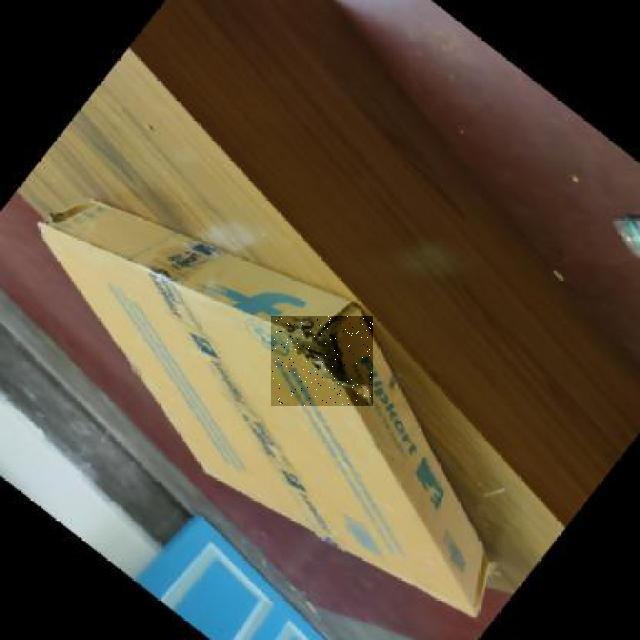squeeze: (271, 317, 373, 406)
